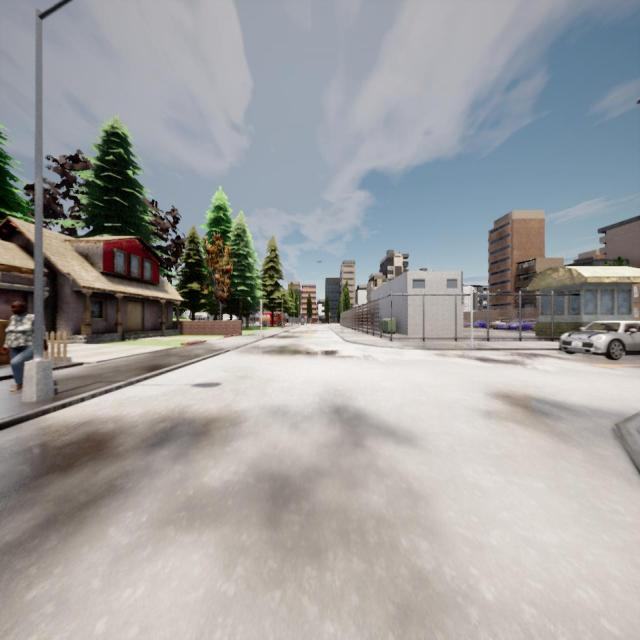Pedestrian: (4, 301, 34, 391)
Vehicle: (560, 321, 640, 359), (262, 312, 287, 326), (512, 319, 536, 330), (492, 320, 512, 330), (473, 321, 487, 328)
traffic_light: (473, 292, 477, 310), (262, 301, 263, 311)
